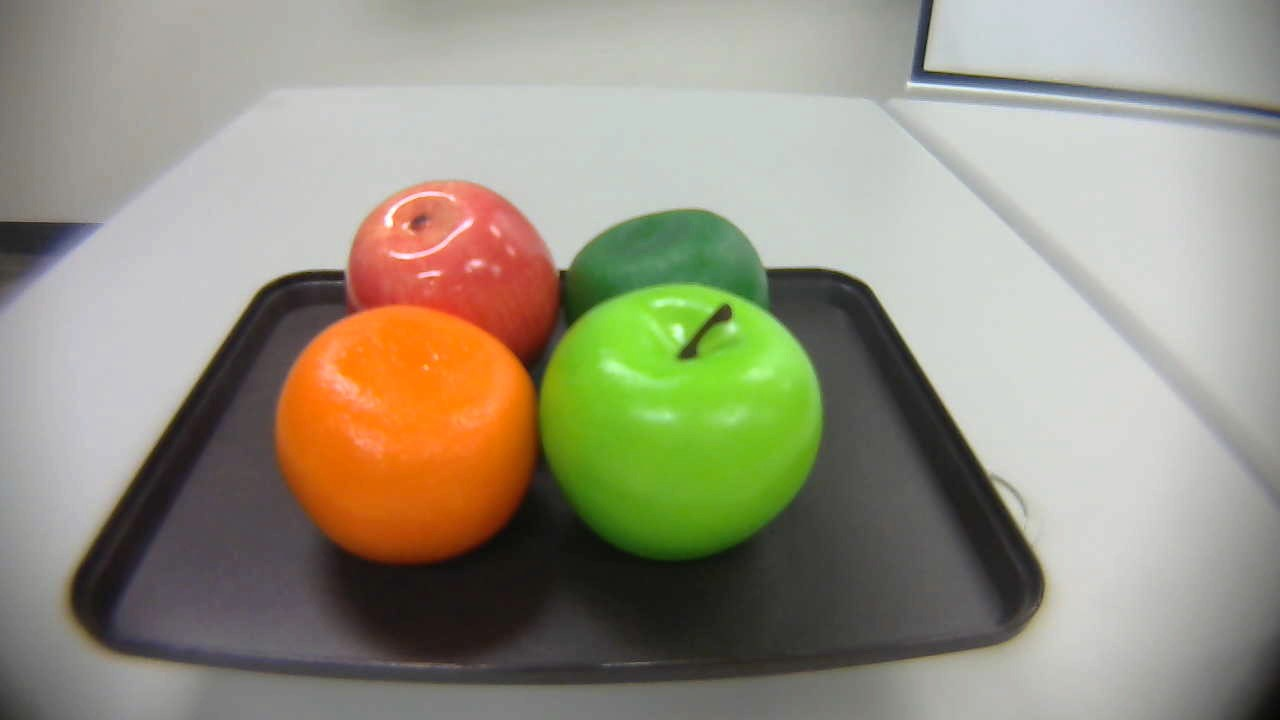green apple: (541, 283, 828, 558)
green orange: (559, 196, 782, 340)
orange: (272, 306, 543, 561)
red apple: (346, 177, 565, 363)
